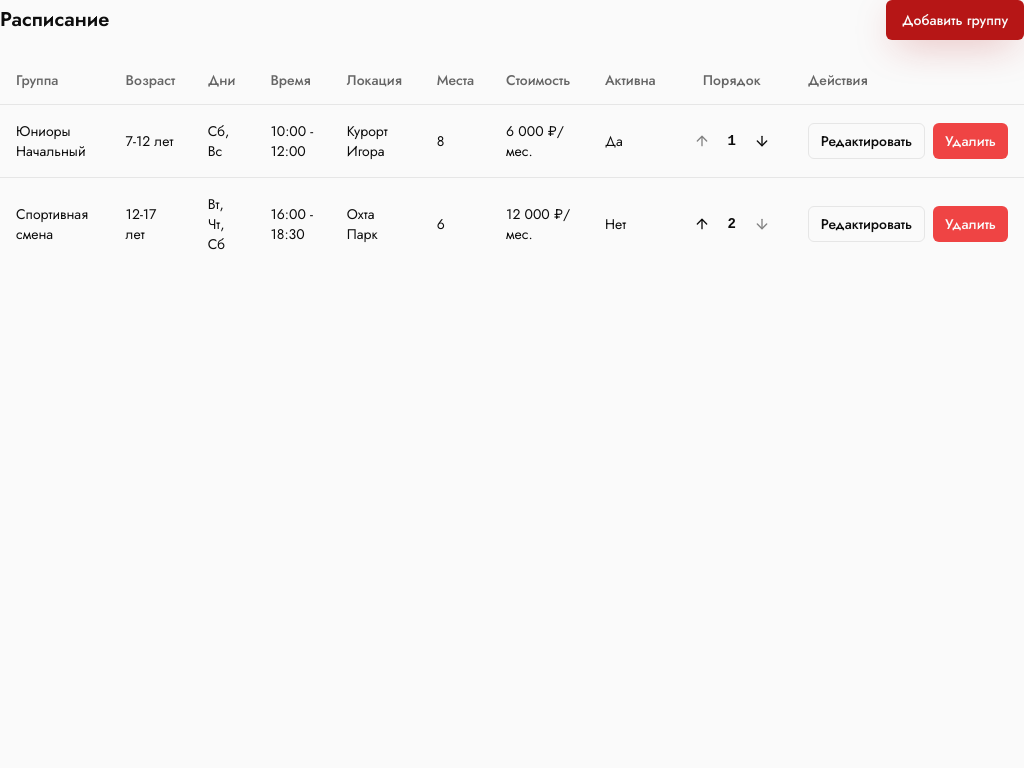
Test: AdminSchedule CRUD & Interactive Operations › editing a schedule group opens ScheduleDialog pre-filled and submits update
Later steps or results of the test are not shown.
Check: the text "Юниоры Начальный" is shown, box [0,104,110,177]
Click the button "Редактировать" in the row of "Юниоры Начальный".
click(866, 140)  # box [808,122,925,158]
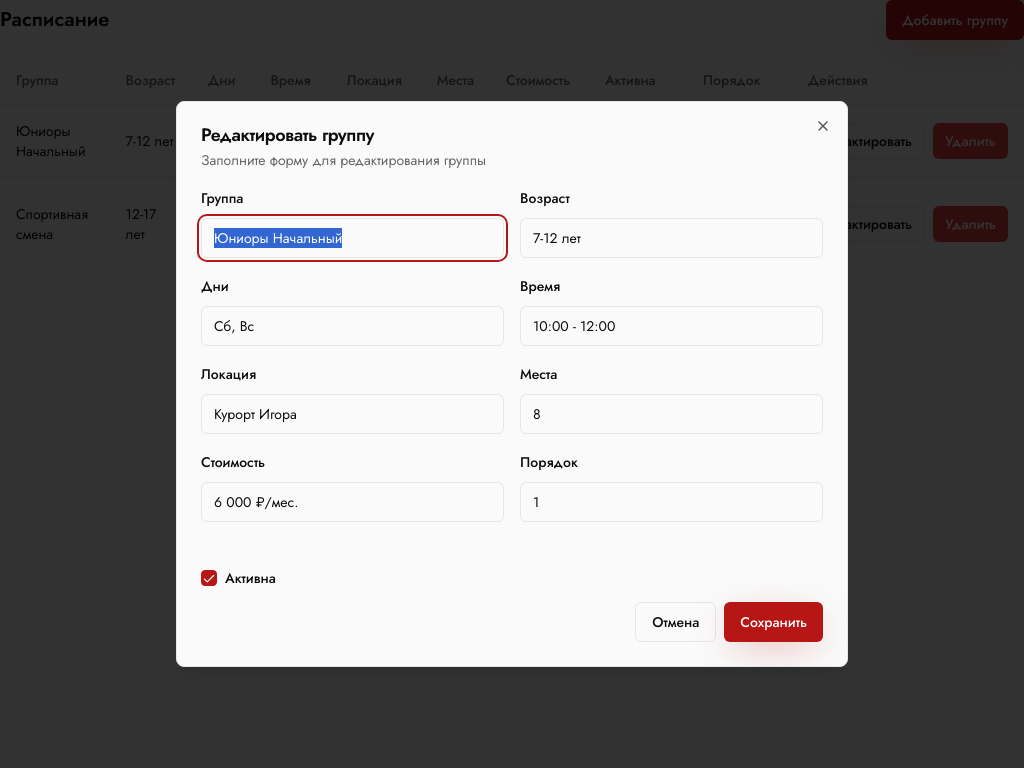
Check: the heading "Редактировать группу" is shown, box [201,122,374,148]
Check: the field labelled "Группа" holds "Юниоры Начальный", box [201,218,504,258]
Check: the number field labelled "Места" holds "8", box [520,394,823,434]
